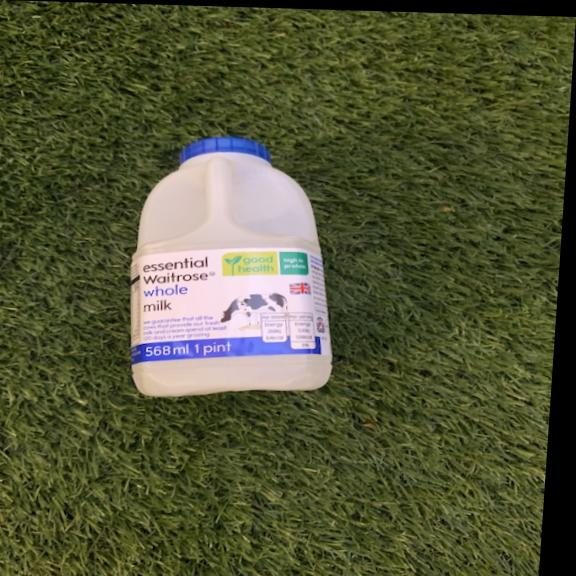Plastik: (120, 129, 352, 404)
